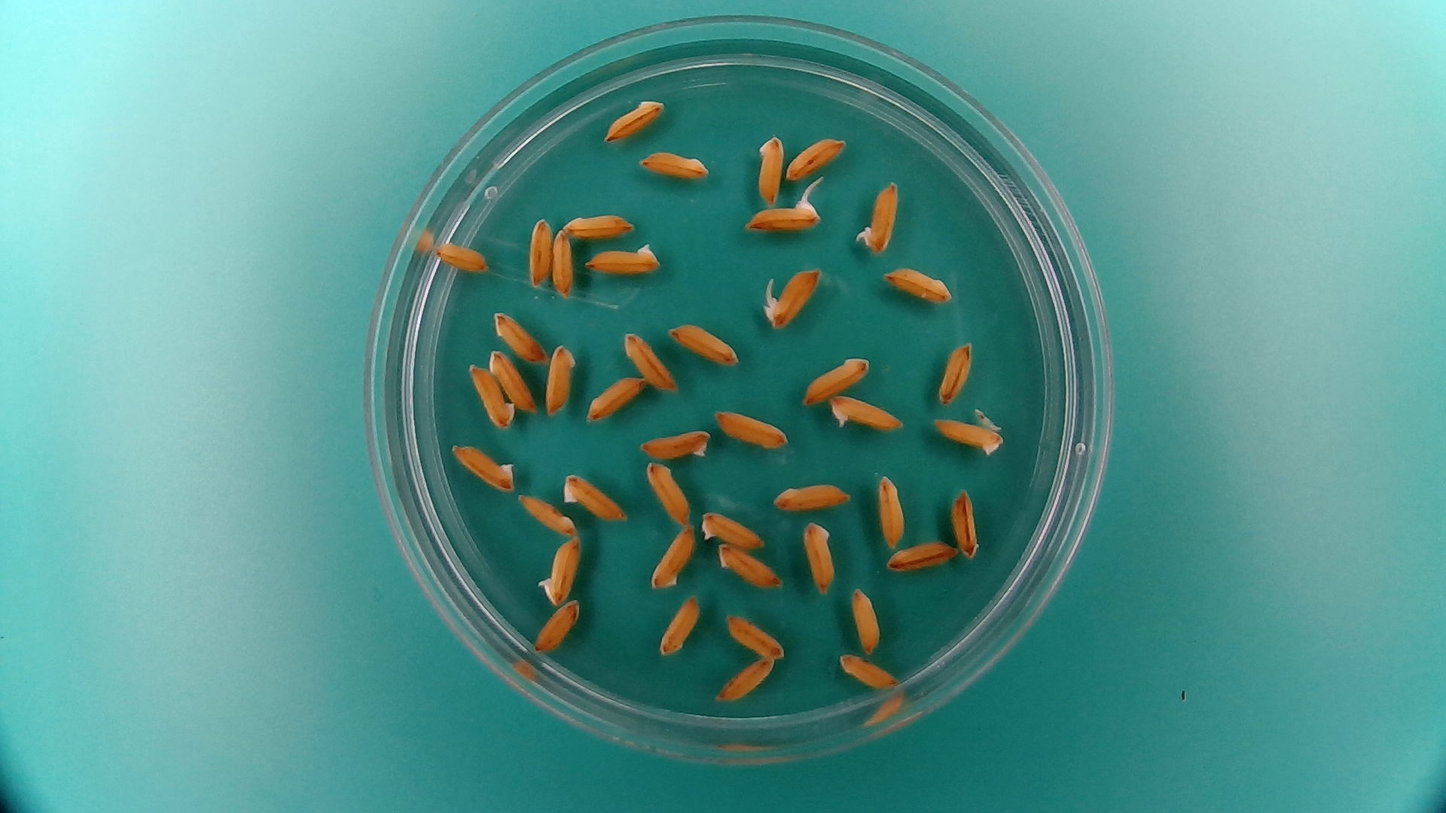no: (477, 345, 541, 413), (798, 352, 873, 407), (664, 318, 743, 368), (621, 327, 679, 394), (561, 469, 631, 524), (710, 406, 791, 452), (713, 540, 785, 591), (447, 441, 517, 493), (465, 361, 516, 431), (643, 458, 692, 527), (648, 522, 697, 591), (929, 414, 1005, 458), (721, 610, 787, 660), (601, 94, 667, 143), (782, 133, 847, 182), (768, 476, 854, 513), (713, 654, 776, 704), (656, 591, 703, 658), (491, 309, 548, 364), (582, 239, 664, 277), (880, 263, 956, 304), (584, 374, 645, 423), (698, 508, 767, 550), (801, 517, 838, 595), (514, 492, 578, 537), (935, 337, 975, 409), (532, 597, 582, 654), (636, 425, 713, 462), (883, 537, 959, 574), (874, 470, 908, 550), (543, 340, 577, 419), (835, 651, 899, 692), (847, 582, 882, 655), (636, 148, 711, 181), (948, 485, 981, 560), (755, 130, 785, 206), (560, 209, 636, 239), (432, 237, 490, 276), (525, 214, 554, 288), (551, 227, 575, 299)
yes: (761, 263, 824, 333), (740, 190, 826, 234), (855, 178, 901, 257), (825, 391, 909, 434), (535, 533, 582, 607)
